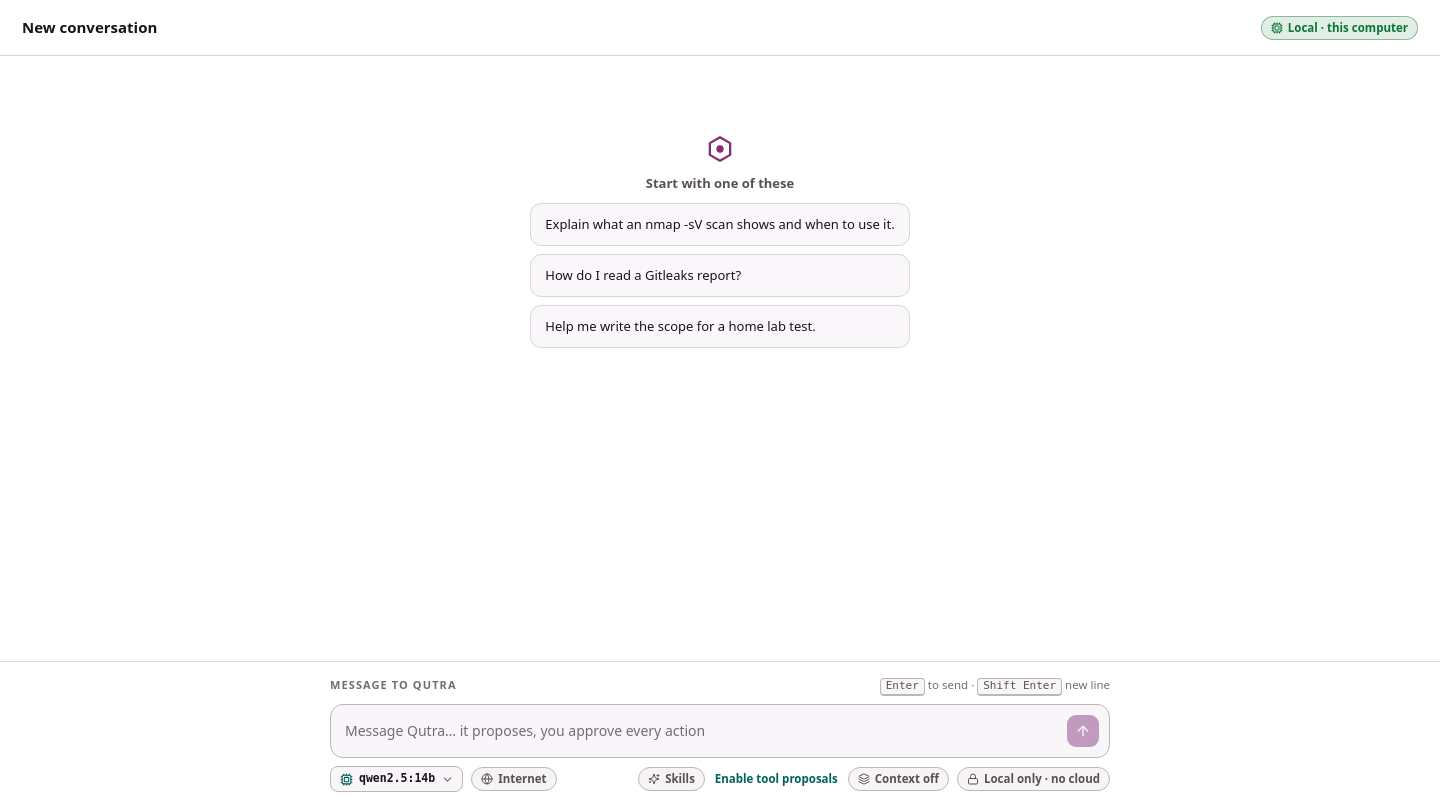
it: the chat keeps its transcript as a conversation document › creates a conversation on the first question and saves the turn under its request id
Type "what listens on 10.0.0.5?" into the text box labelled "Message to Qutra".
click(702, 732); type("what listens on 10.0.0.5?")  # box [345,718,1059,747]
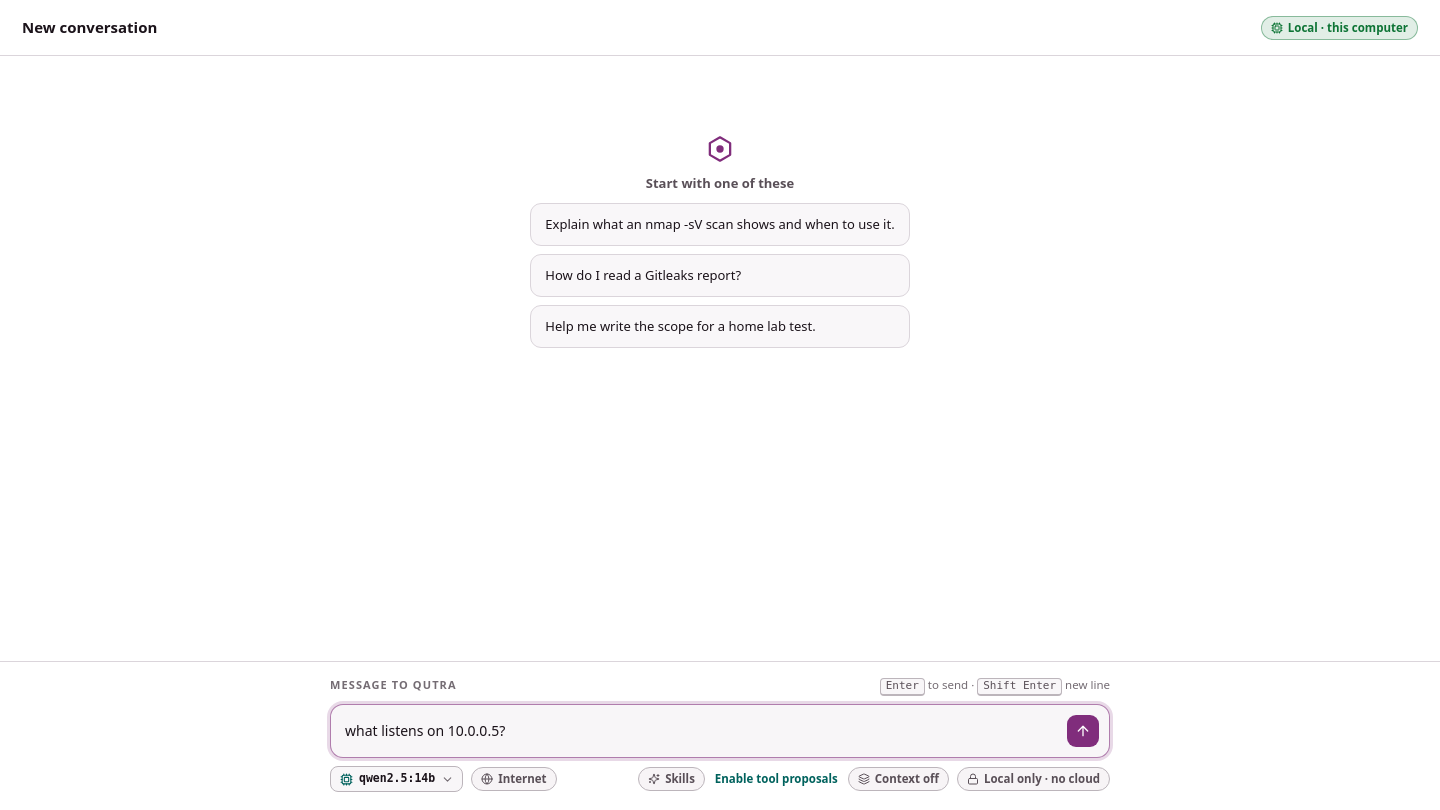
Click the button named "Send".
click(1083, 731)  # box [1067,715,1099,747]
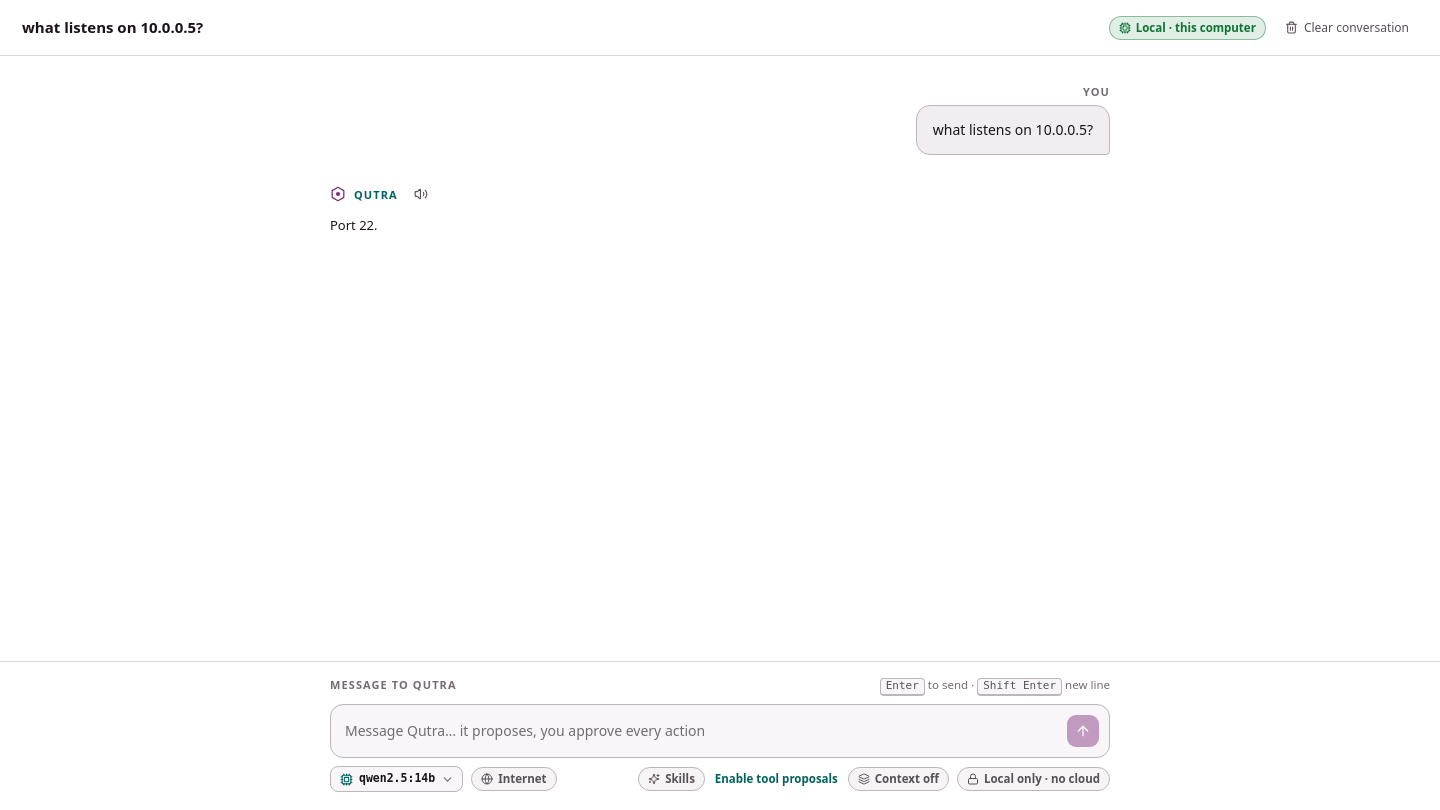
Expected: the heading "what listens on 10.0.0.5?" is shown, [22,17,203,37]
